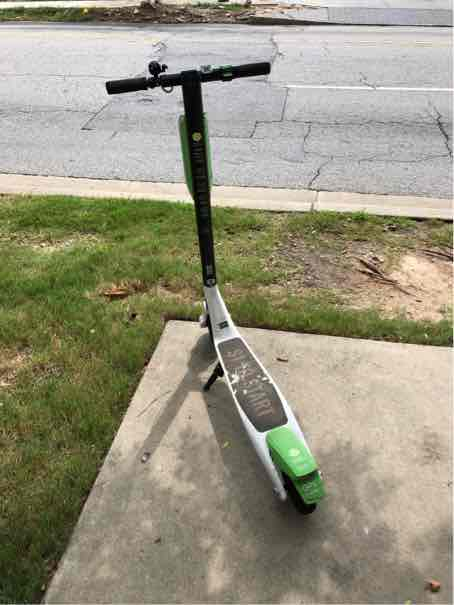scooter: (101, 54, 340, 519)
